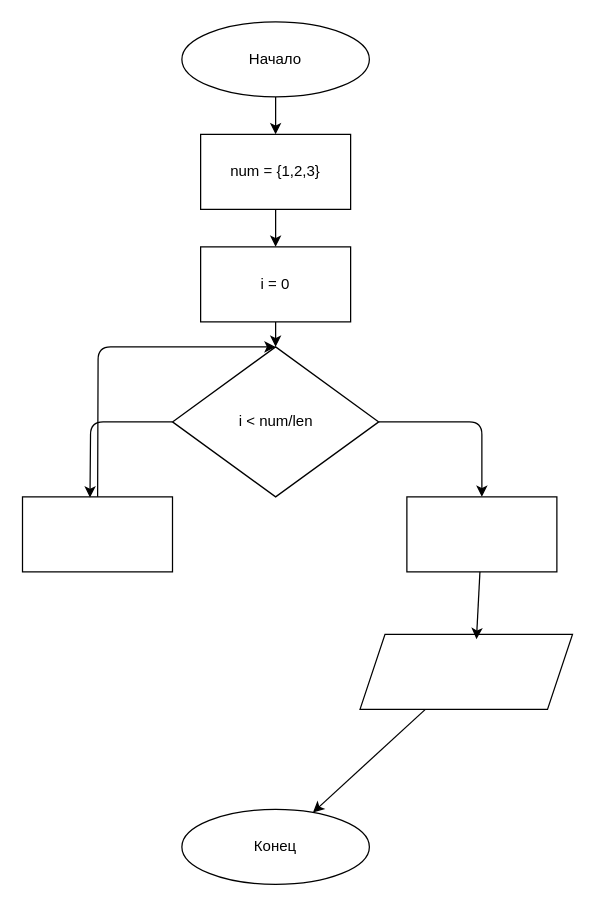
Image size: 594x906. Some labels were removed from this diagram. Here are the shapes that lost their labels. From the top down, the centre of each, then its label:
point 96,534: i ++
point 481,534: num.max()
point 465,671: ввывод максимум числа
